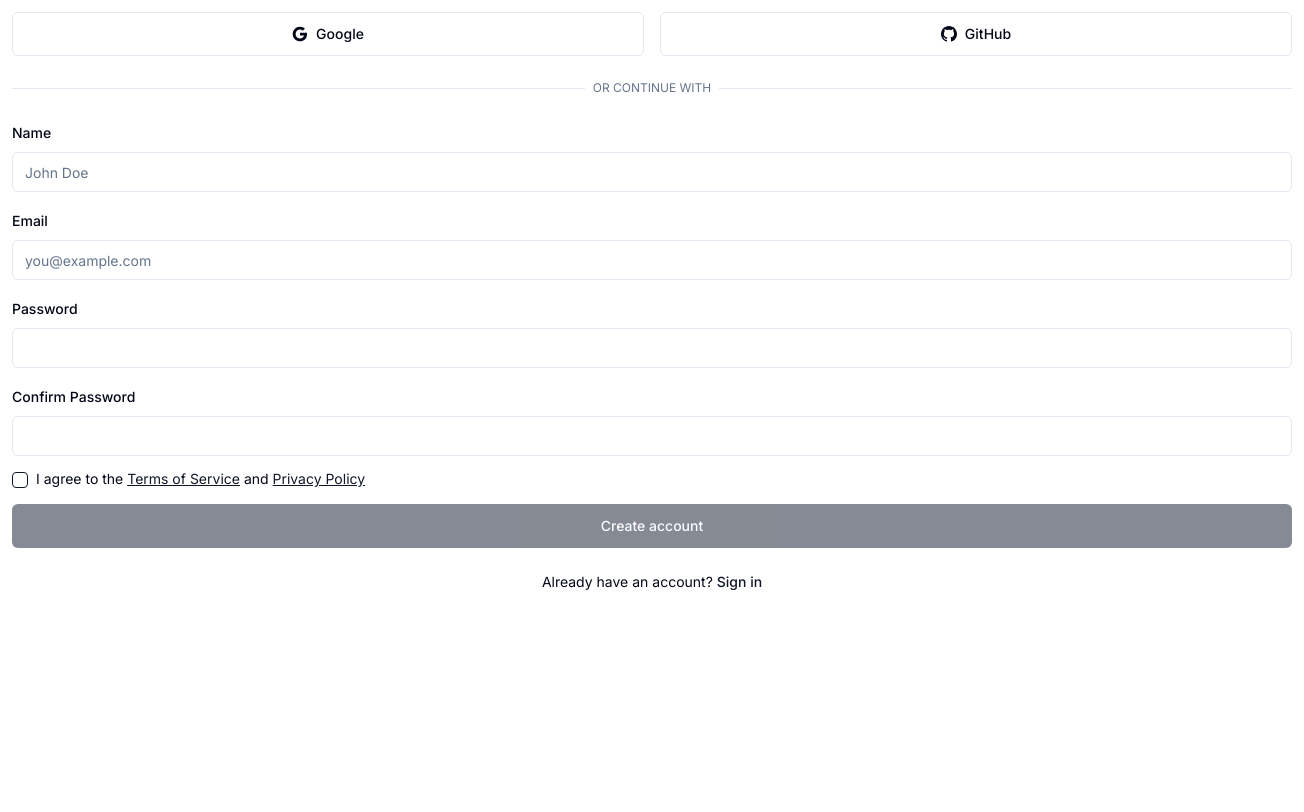
Scenario: RegisterForm › Rendering › enables submit button when TOS is accepted
Expected: the button with test id "register-button" is disabled, [12,504,1292,548]
Note: Click TOS checkbox
Click the checkbox named "terms of service".
click(20, 480)  # box [12,472,28,488]
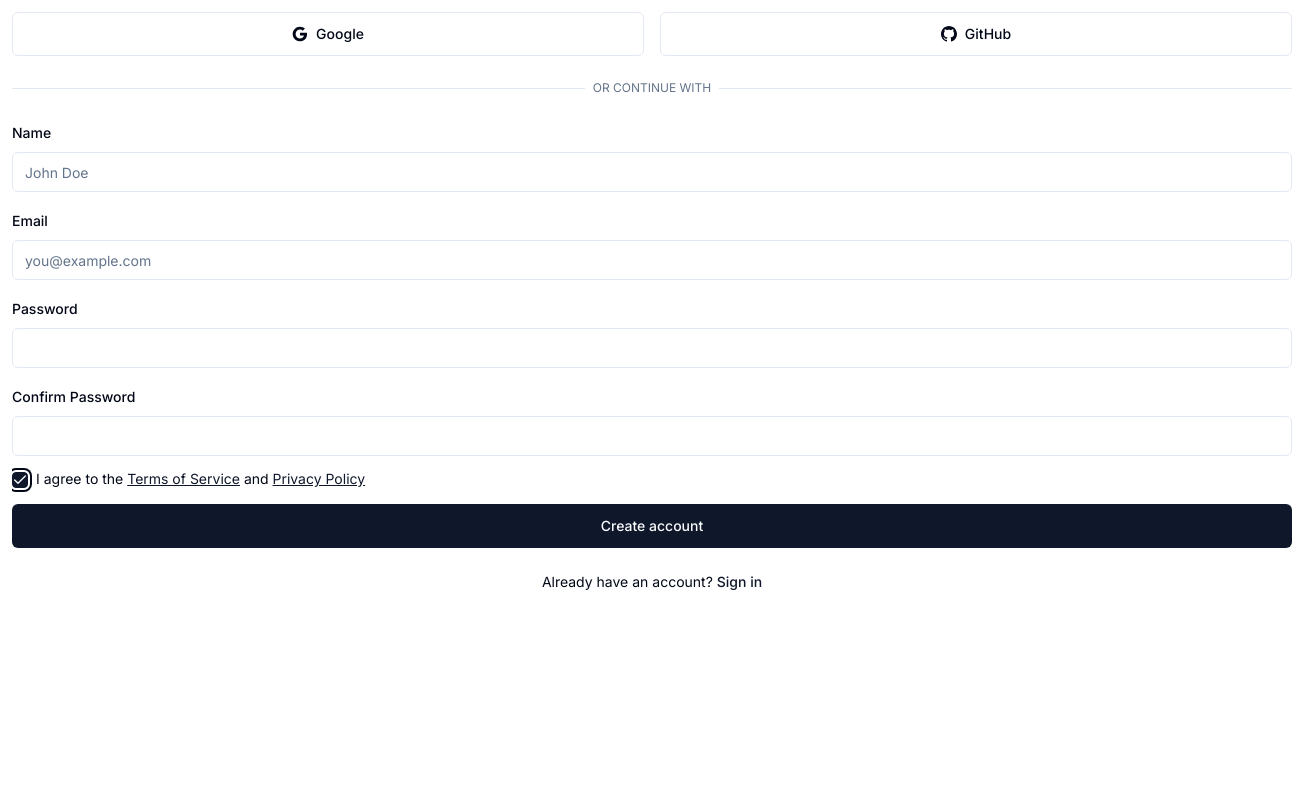
Result: the button with test id "register-button" is enabled at [12,504,1292,548]
